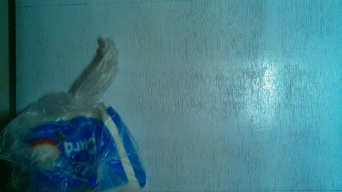m: (12, 97, 152, 192)
